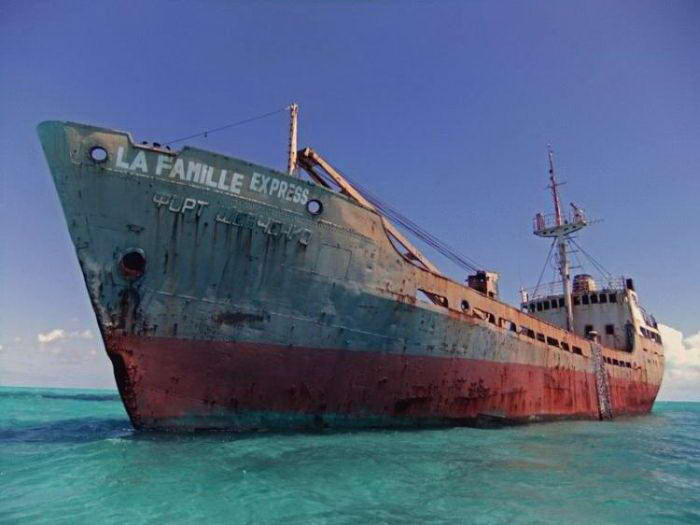rust: (402, 374, 528, 424), (98, 267, 153, 335), (625, 364, 656, 418)
